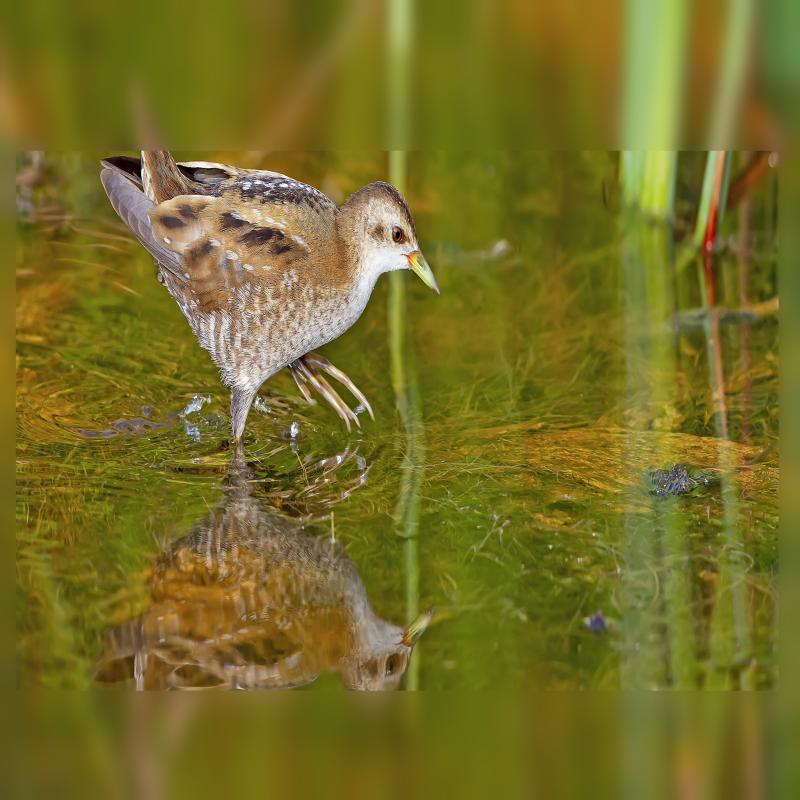little crake: (91, 142, 448, 470)
